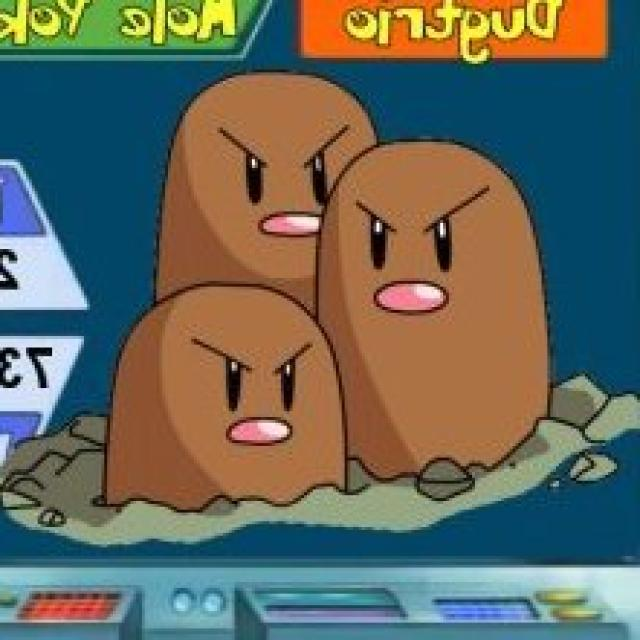Dugtrio: (92, 66, 564, 526)
